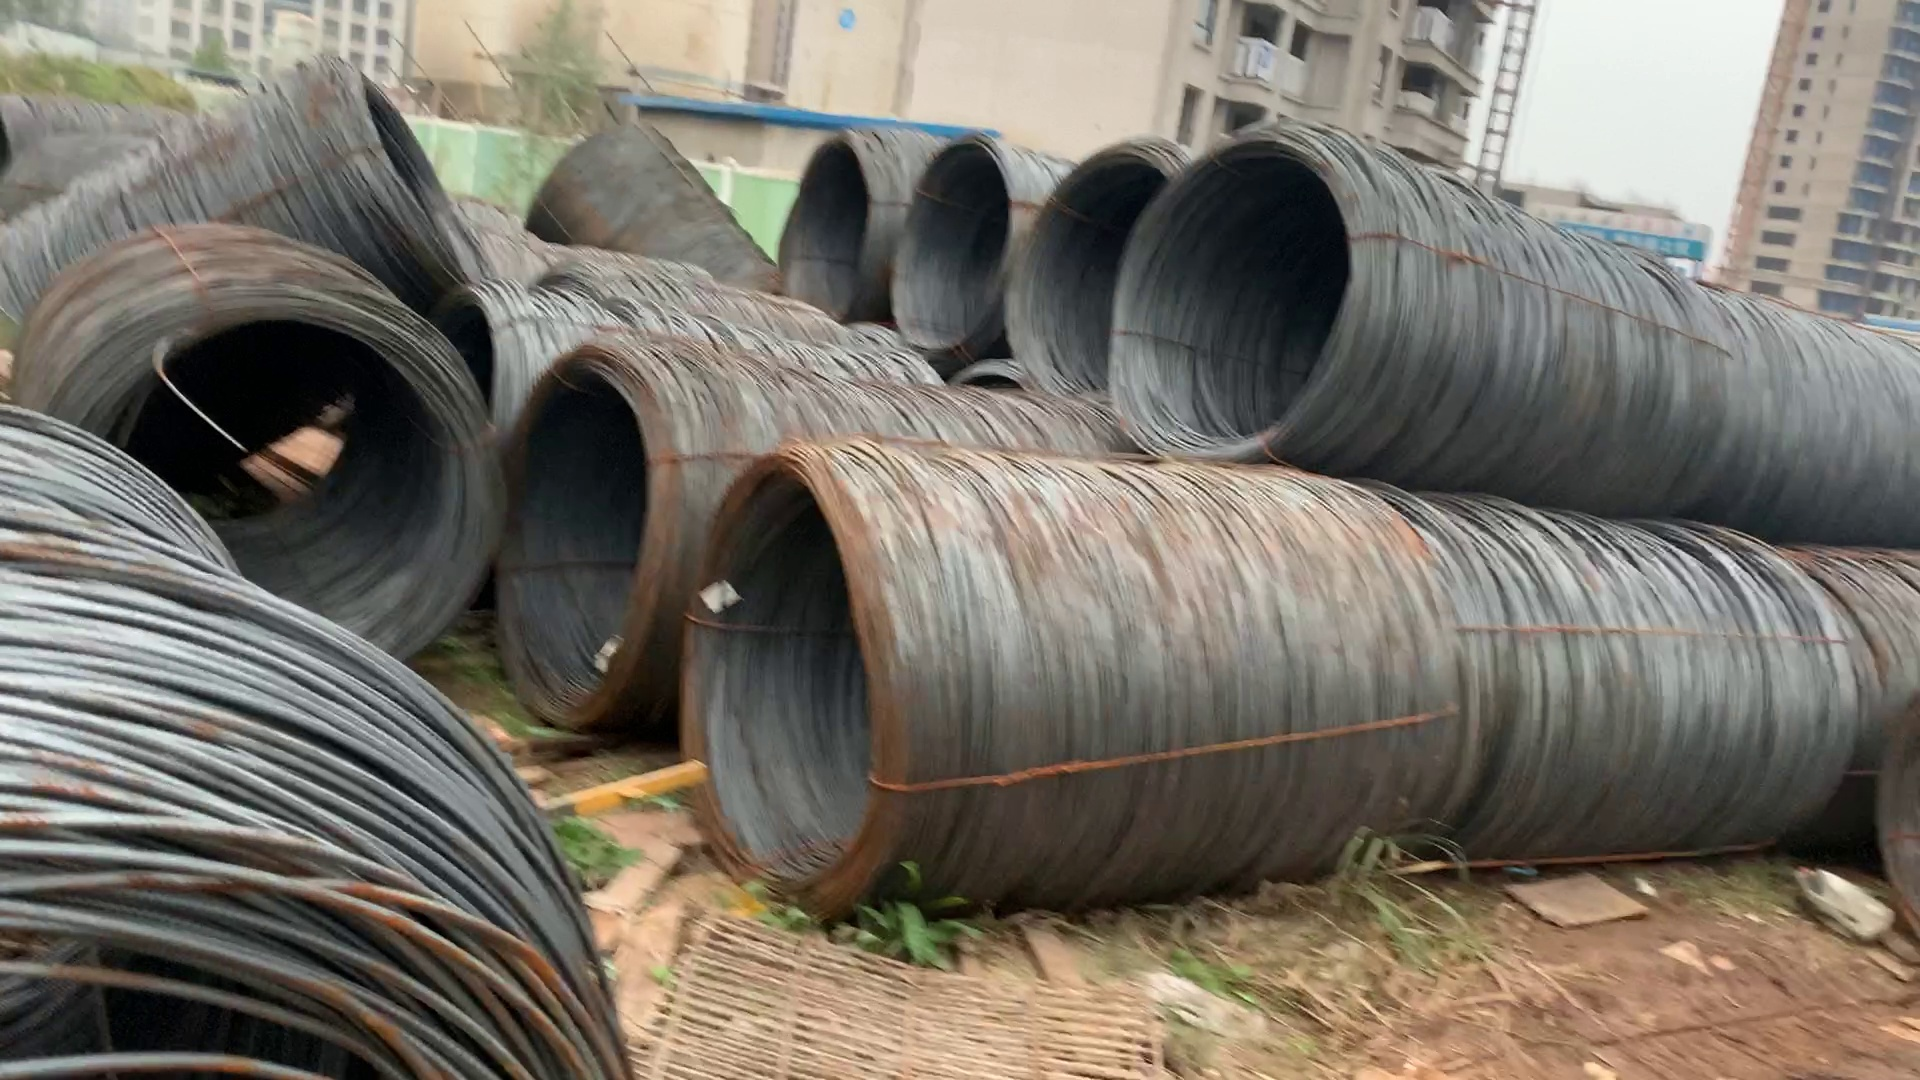coil: (88, 293, 473, 654), (682, 448, 893, 895), (1106, 129, 1382, 452), (465, 338, 679, 738), (318, 61, 502, 327), (1038, 141, 1179, 396), (890, 127, 1013, 353), (782, 135, 877, 324)
